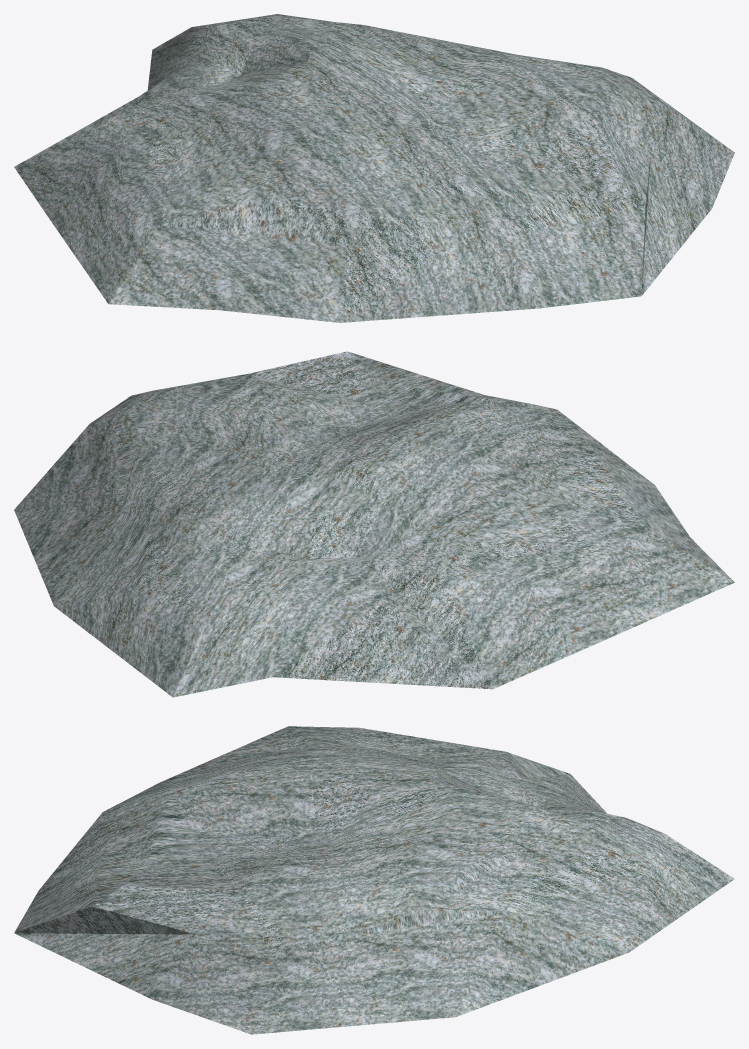
File: rock_graniteslab_large_a1_l0.fbx
The picture shows the model from 3 angles, top to bottom: view 1: azimuth 30°, elevation 25°; view 2: azimuth 150°, elevation 25°; view 3: azimuth 270°, elevation 25°; orthographic projection. The views are drawn at different scales.
Visible parts, largest first — view 1: mesh_node; view 2: mesh_node; view 3: mesh_node.
Part boxes in pixels (x1=…): mesh_node: x1=14, y1=14, x2=734, y2=322; mesh_node: x1=14, y1=351, x2=734, y2=697; mesh_node: x1=14, y1=726, x2=734, y2=1034.
Bounding box in the file's own units: 4.41 × 0.7134 × 4.58.
